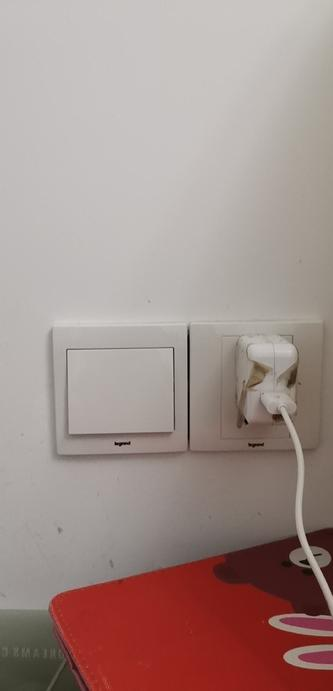switch: (61, 339, 182, 445)
